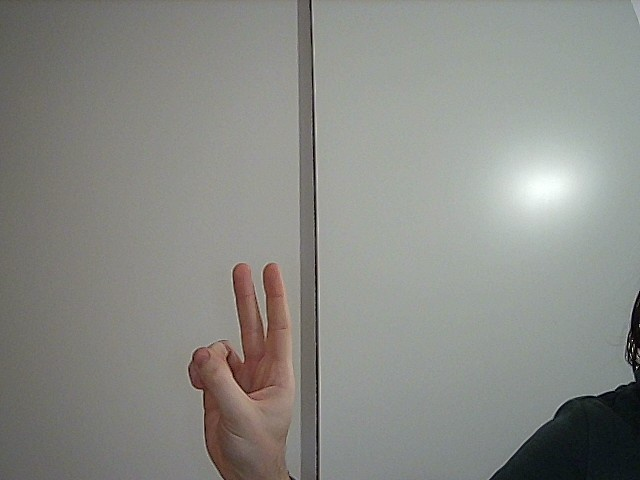r: (173, 248, 320, 475)
